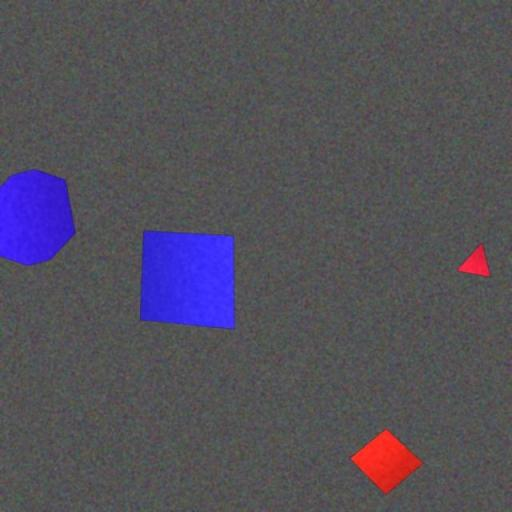BLUE_SQUARE: (139, 230, 236, 330)
RED_SQUARE: (350, 428, 424, 496)
